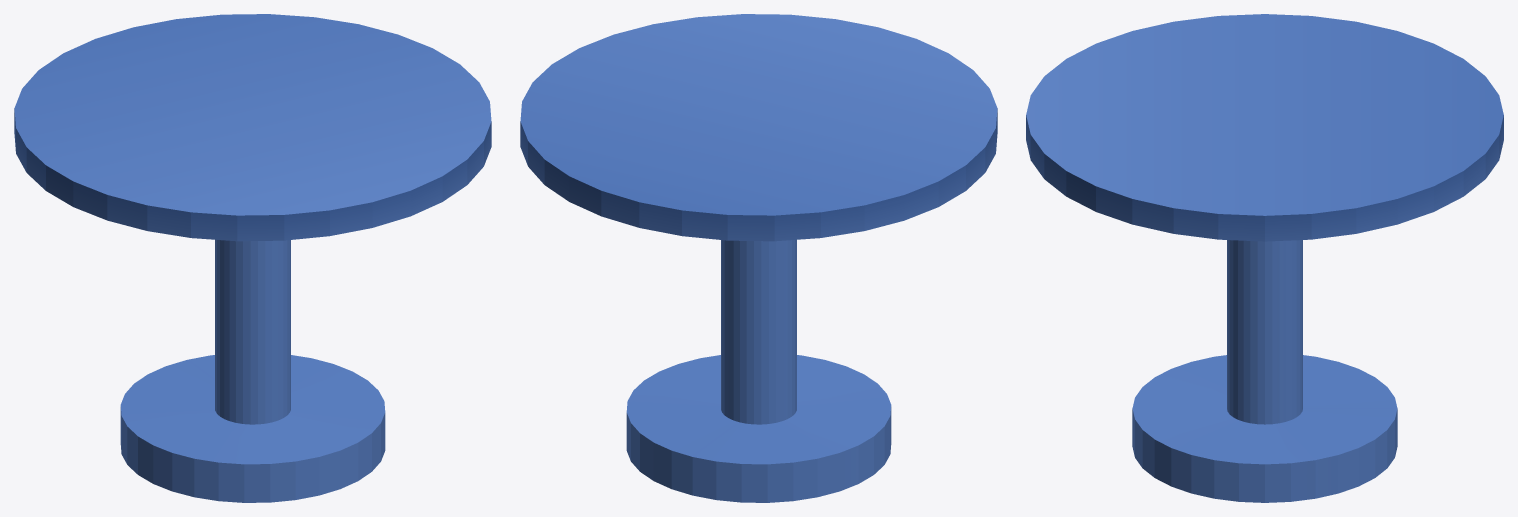
File: table.glb
The picture shows the model from 3 angles, left to right: view 1: azimuth 30°, elevation 25°; view 2: azimuth 150°, elevation 25°; view 3: azimuth 270°, elevation 25°; orthographic projection.
Parts seen in each view (by area): view 1: Table; view 2: Table; view 3: Table.
Boxes of the visible parts, x1,y1,x2,y2 form: Table: (14, 14, 491, 502); Table: (520, 14, 997, 502); Table: (1026, 14, 1503, 502).
Size of the model in its own units: 2 by 1.53 by 2.
1 material, 1 textured.
